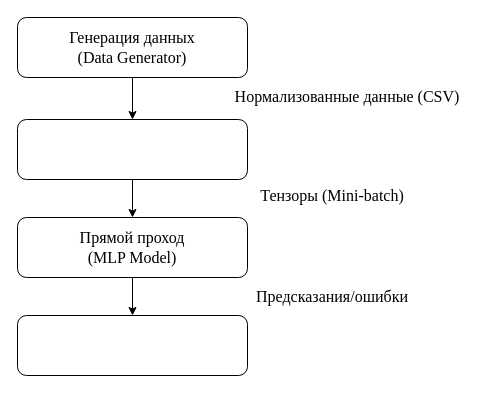
Image size: 481x393. Some labels were removed from this diagram. Each missing label, with the centre of its shape:
"Нормализация (Preprocessor)" belongs at (132,149).
"Обучение (Trainer)" belongs at (132,345).
